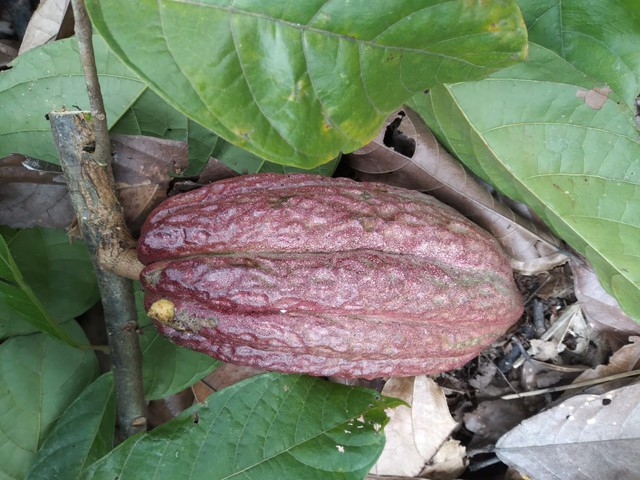Health: (121, 165, 537, 385)
